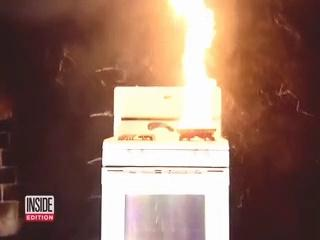Fire: (158, 1, 228, 134)
